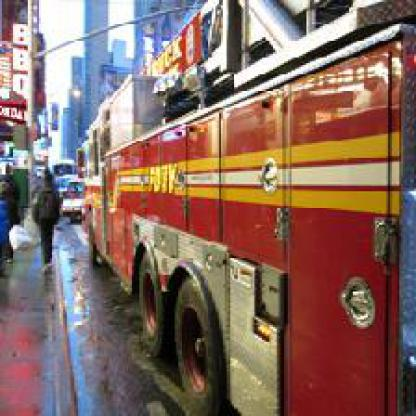emergency: (74, 2, 415, 415)
